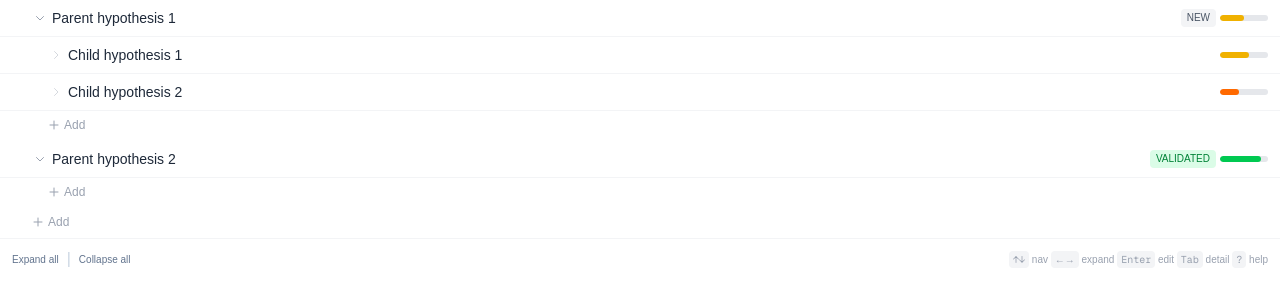
it: HypothesisList › Hierarchical Expansion › hides children when parent is collapsed
Expected: the text "Child hypothesis 1" is shown, [68,45,182,65]
# Collapse by clicking expand button
Click the button without text next to "Parent hypothesis 1" at (40, 18), box [34,12,46,24]
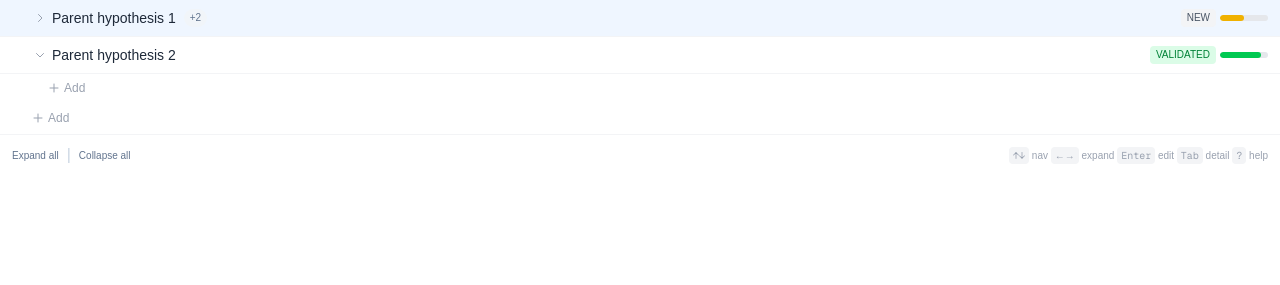
Result: the text "Child hypothesis 1" is gone
